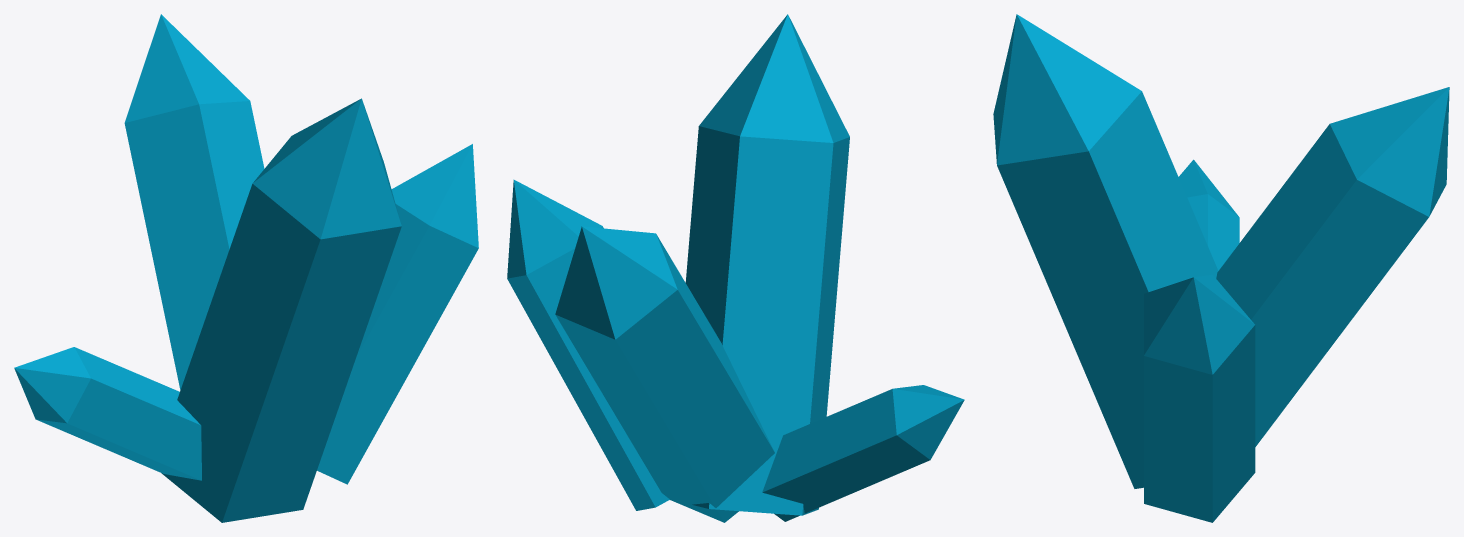
File: crystall_b.fbx
The picture shows the model from 3 angles, left to right: view 1: azimuth 30°, elevation 25°; view 2: azimuth 150°, elevation 25°; view 3: azimuth 270°, elevation 25°; orthographic projection. The views are drawn at different scales.
Visible parts, largest first — view 1: Cylinder.001; view 2: Cylinder.001; view 3: Cylinder.001.
Boxes of the visible parts, x1,y1,x2,y2 form: Cylinder.001: [14, 14, 478, 522]; Cylinder.001: [507, 14, 964, 522]; Cylinder.001: [993, 14, 1449, 522].
Size of the model in its own units: 335 by 316 by 273.
